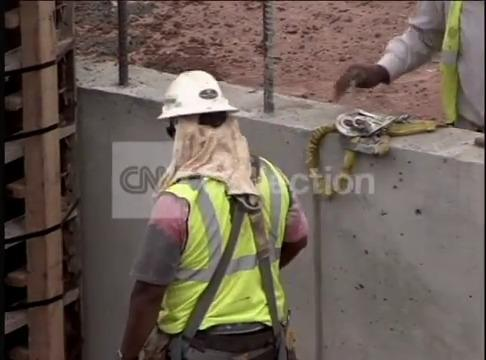Helmet: (149, 66, 229, 122)
Person: (116, 69, 309, 359)
Safety Vest: (166, 187, 282, 330)
